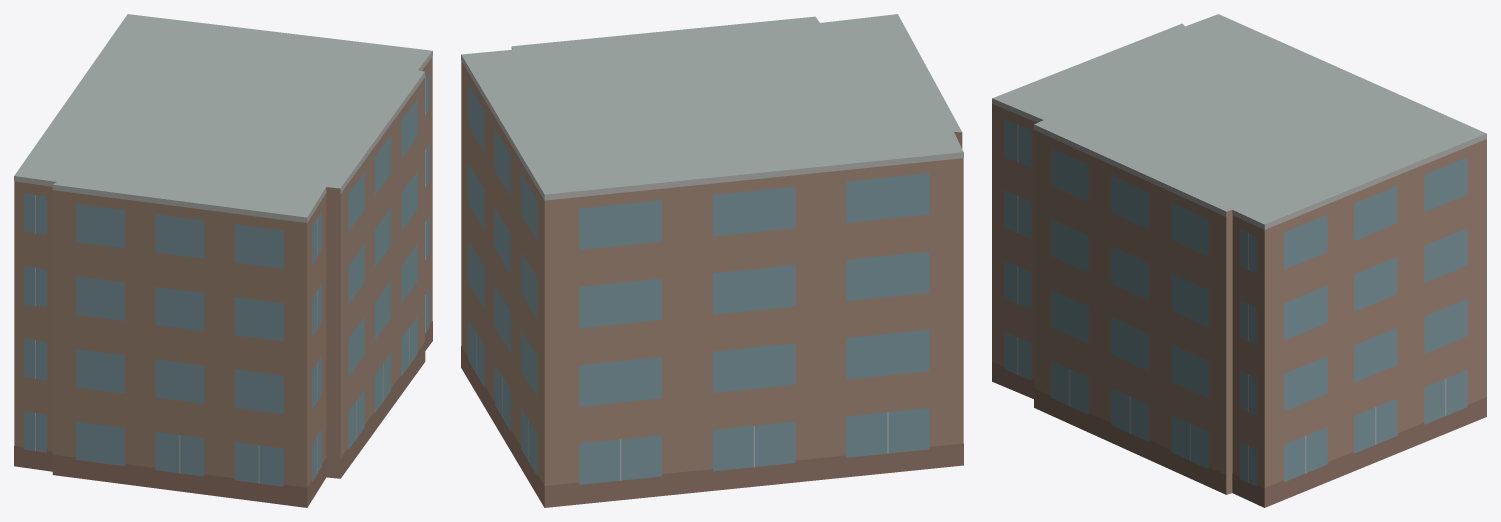
The model's file is survey-upis-32888176.glb.
The picture shows the model from 3 angles, left to right: view 1: azimuth 30°, elevation 25°; view 2: azimuth 150°, elevation 25°; view 3: azimuth 270°, elevation 25°; orthographic projection. The views are drawn at different scales.
Visible parts, largest first — view 1: survey-upis-32888176.tmp; view 2: survey-upis-32888176.tmp; view 3: survey-upis-32888176.tmp.
Part boxes in pixels (x1,y1,x2,y2): survey-upis-32888176.tmp: (14, 14, 432, 507); survey-upis-32888176.tmp: (461, 14, 963, 507); survey-upis-32888176.tmp: (992, 14, 1486, 507).
Size of the model in its own units: 20.58 by 12.9 by 20.42.
